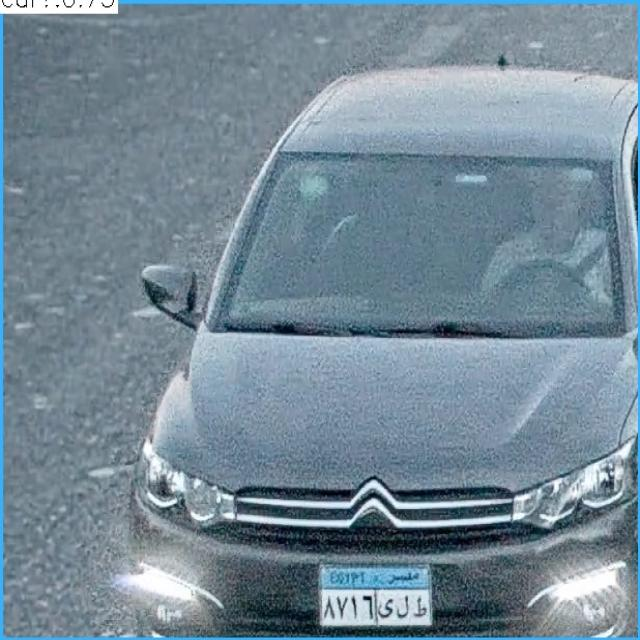windshield: (217, 151, 626, 332)
